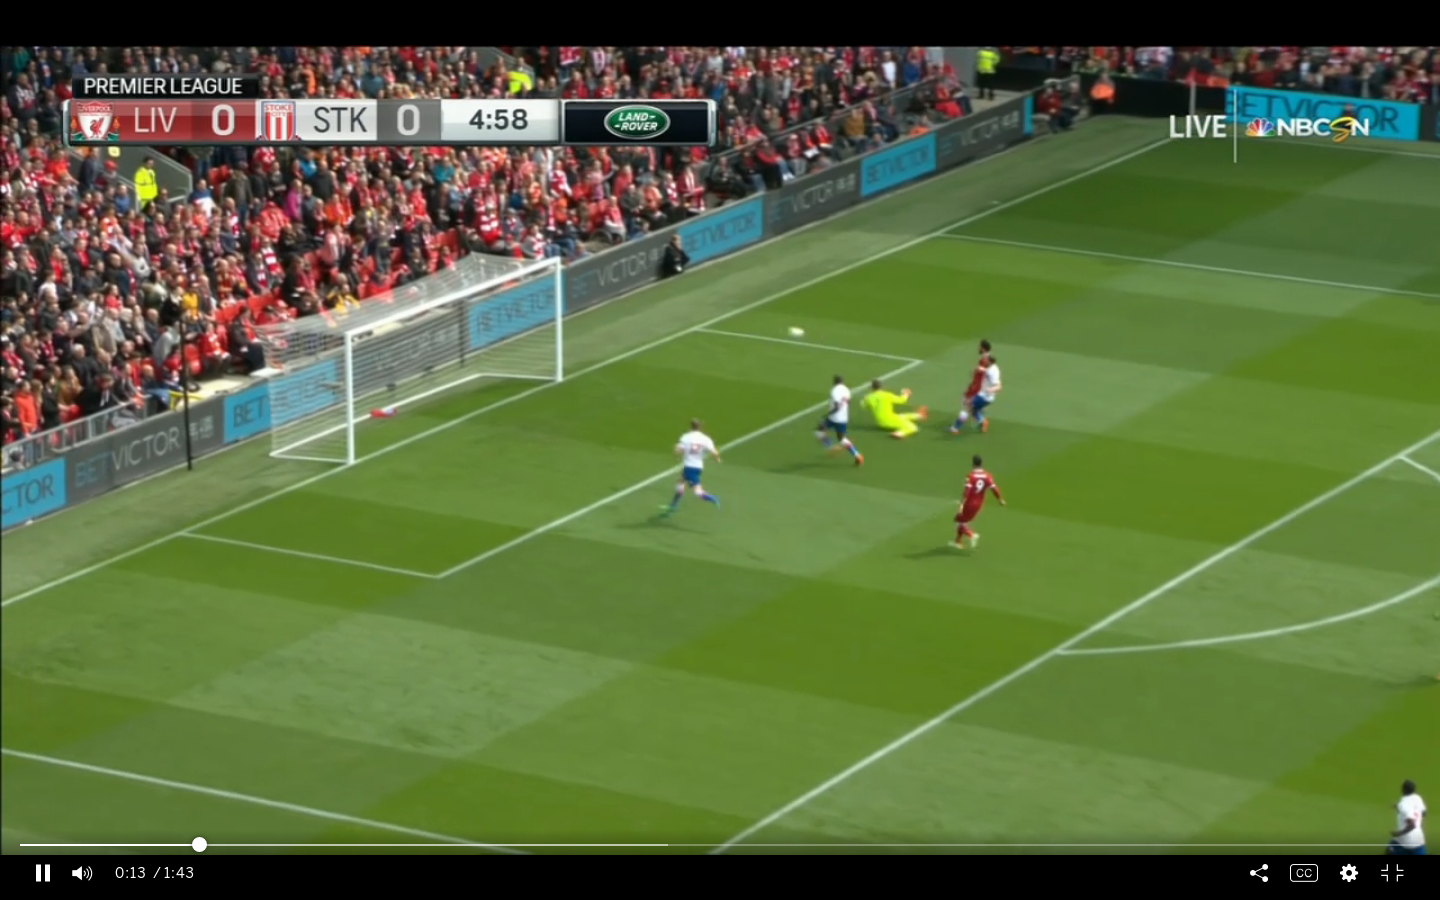soccer players: (659, 417, 721, 526), (953, 452, 999, 554), (815, 371, 861, 471), (959, 349, 1005, 437), (859, 382, 927, 440)
soccerball: (785, 320, 805, 343)
